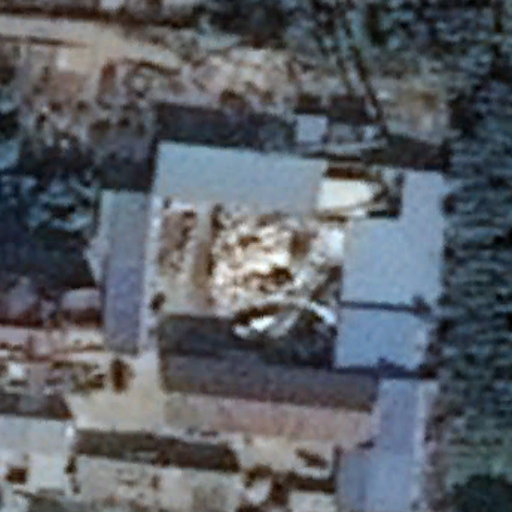msw: (210, 205, 342, 358)
